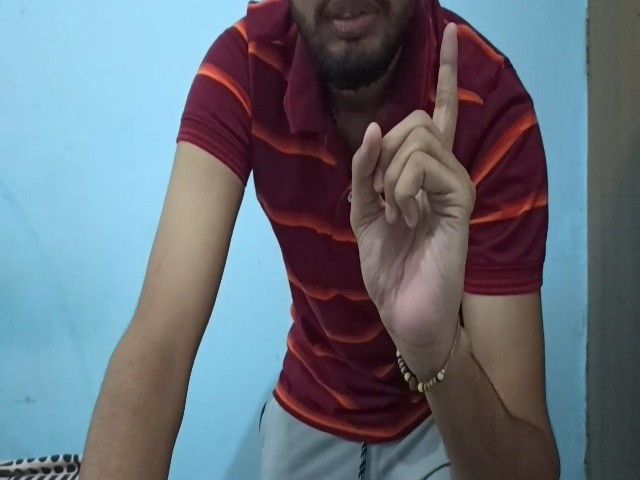D: (349, 21, 475, 354)
